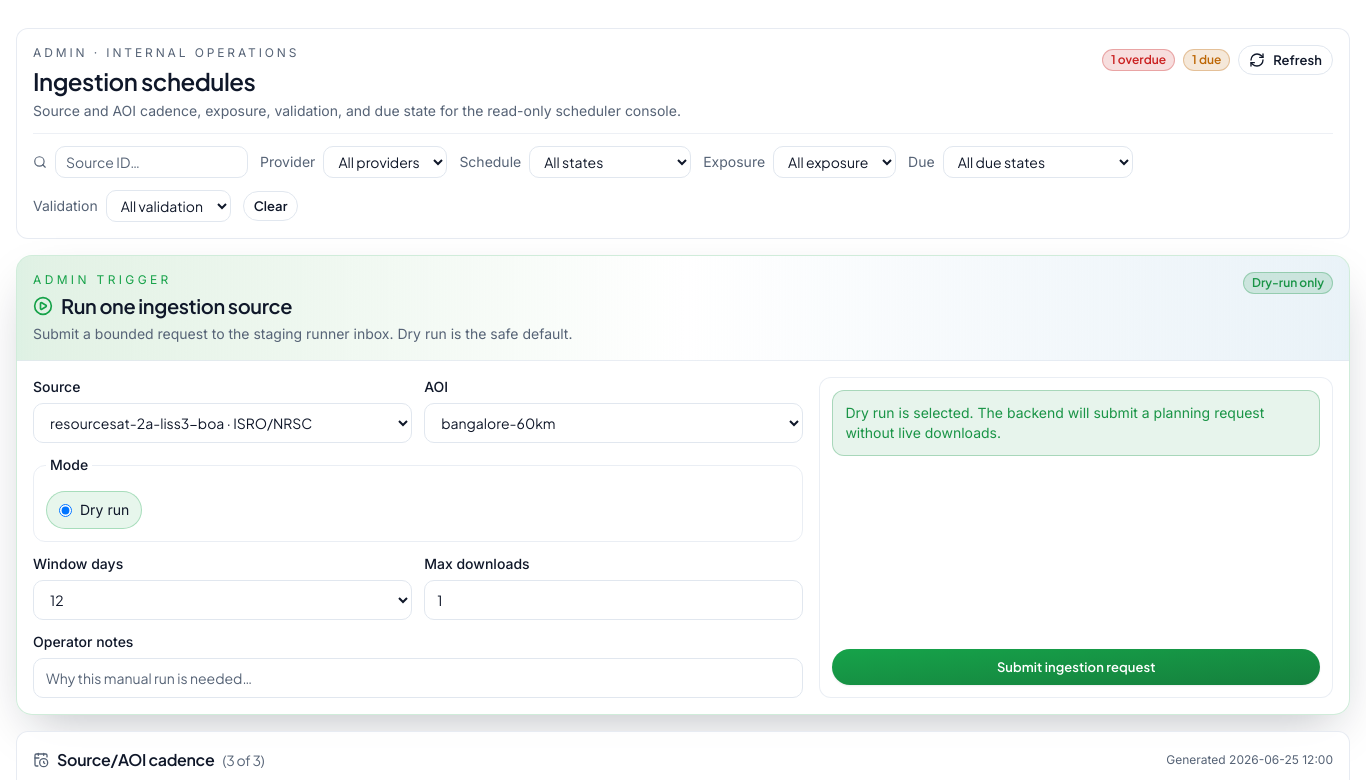
Test case: IngestionSchedules › shows a no-match state when filters exclude every schedule
Type "does-not-exist" into the field named "Filter by source ID" at (152, 162), box [55,146,248,178]
(page scrolled)
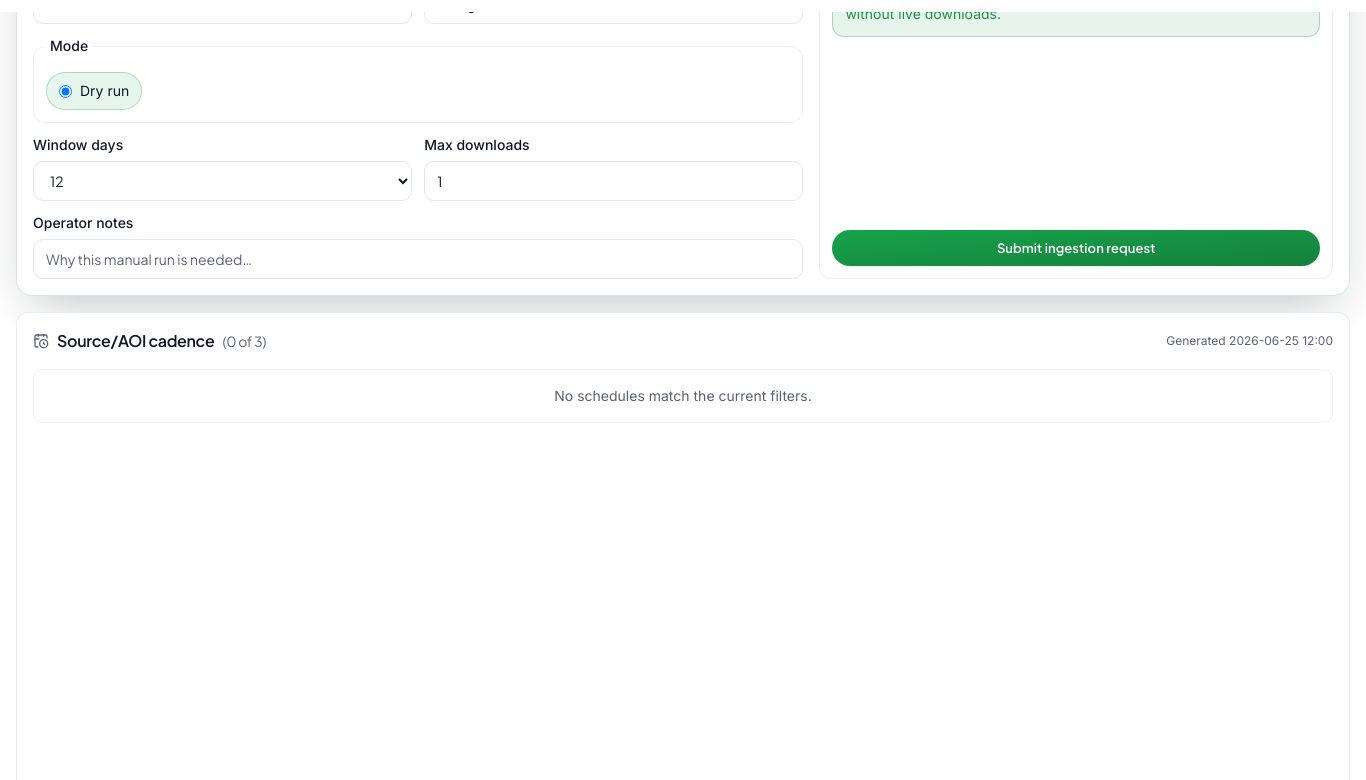
Result: the text "No schedules match the current filters." is shown at [33,369,1333,423]
